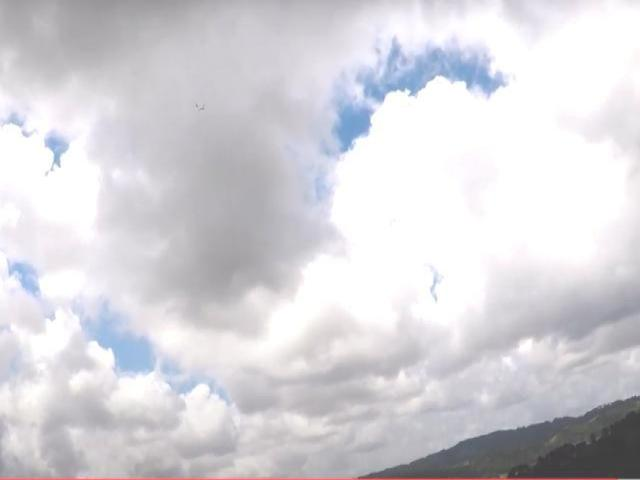iha: (193, 98, 208, 113)
